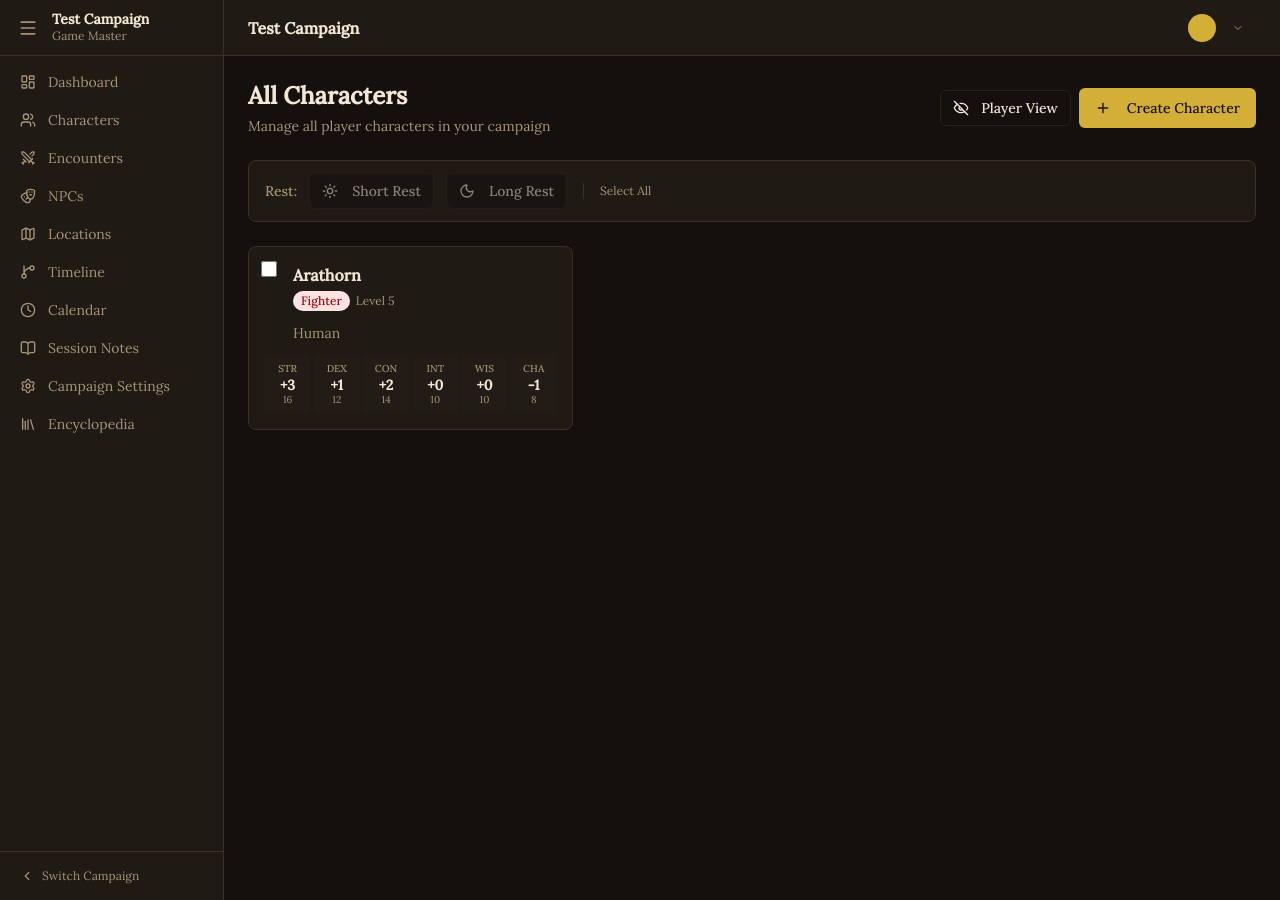
Test case: CharacterList — rest buttons (GM view) › long rest summary lists a feat spell free cast (Magic Initiate)
Expected: the heading "Arathorn" is shown, [293,265,361,285]
Click the checkbox with test id "char-checkbox-1" at (269, 269), box [261,261,277,277]
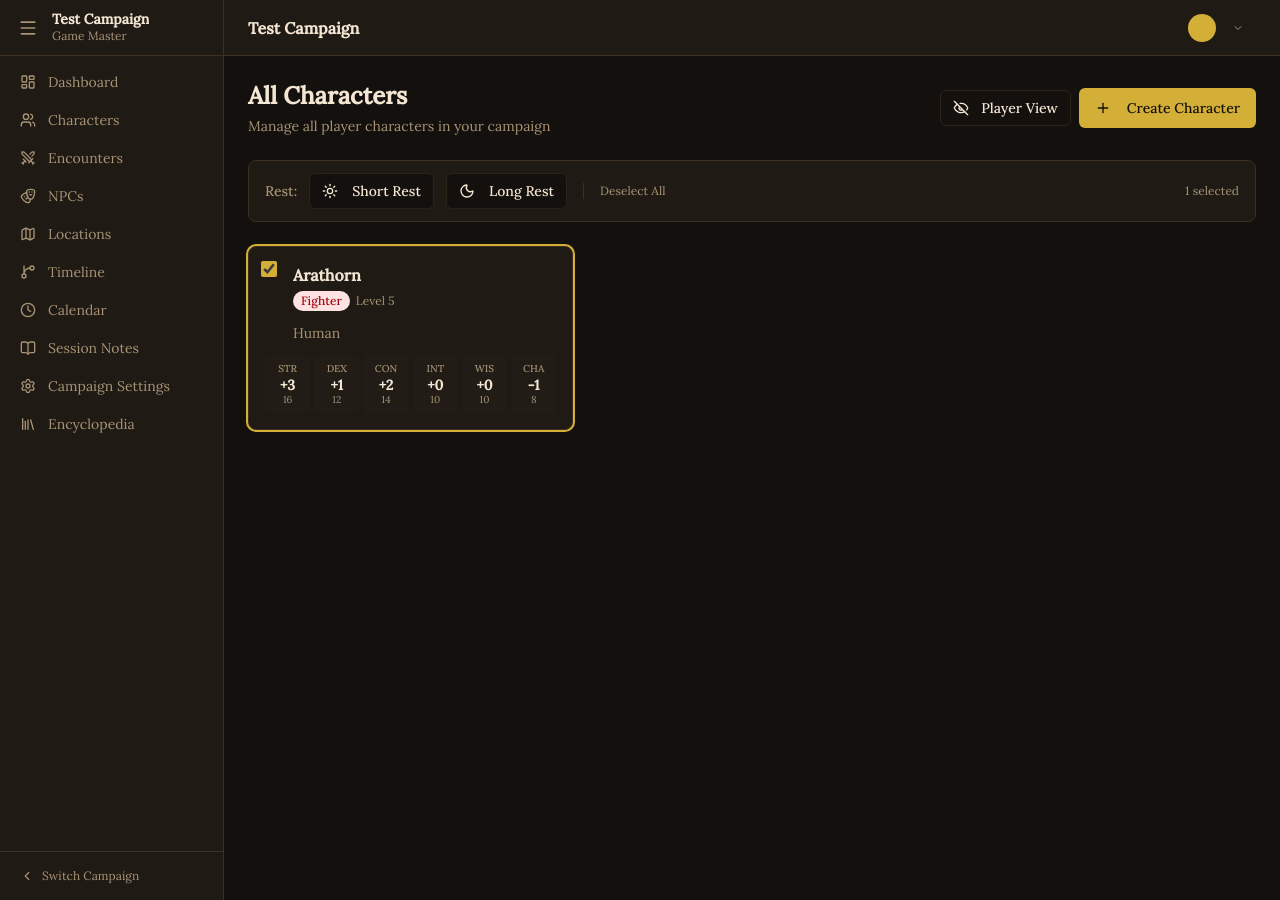
Click the button with test id "long-rest-btn" at (506, 191), box [446,173,567,209]
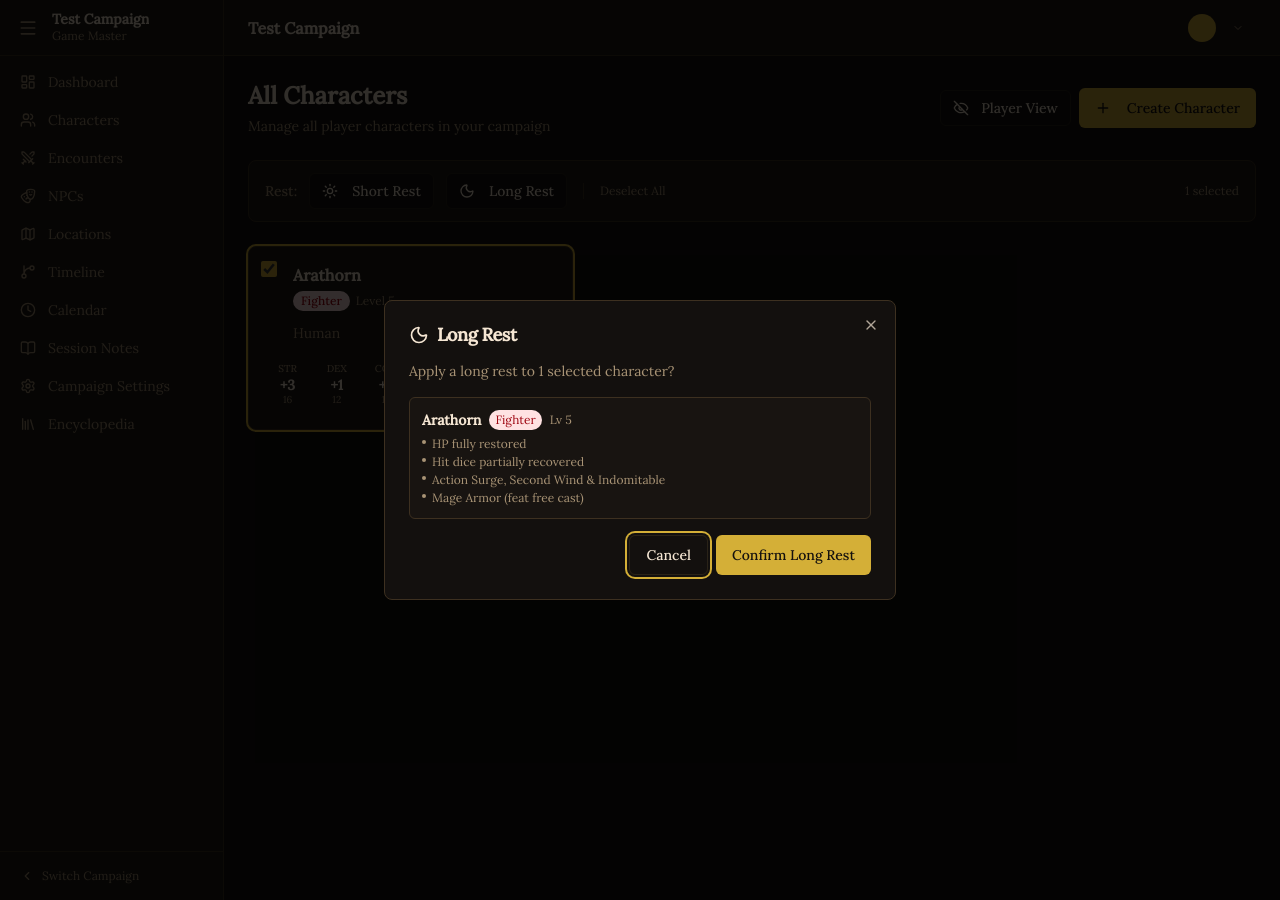
Expected: the text "Apply a long rest to 1 selected character?" is shown, [409,362,674,380]
Expected: the list item "Mage Armor (feat free cast)" is shown, [422,490,584,505]
